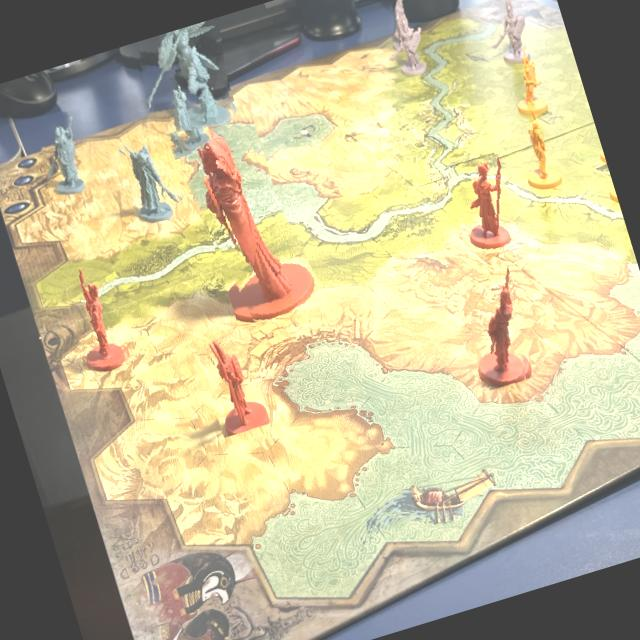amon: (168, 98, 318, 332)
amon_follower: (450, 259, 538, 392), (56, 254, 136, 373), (192, 319, 270, 437), (441, 150, 522, 256)
isis: (126, 19, 242, 142)
isis_follower: (115, 128, 192, 228), (28, 105, 100, 199), (160, 76, 212, 152)
